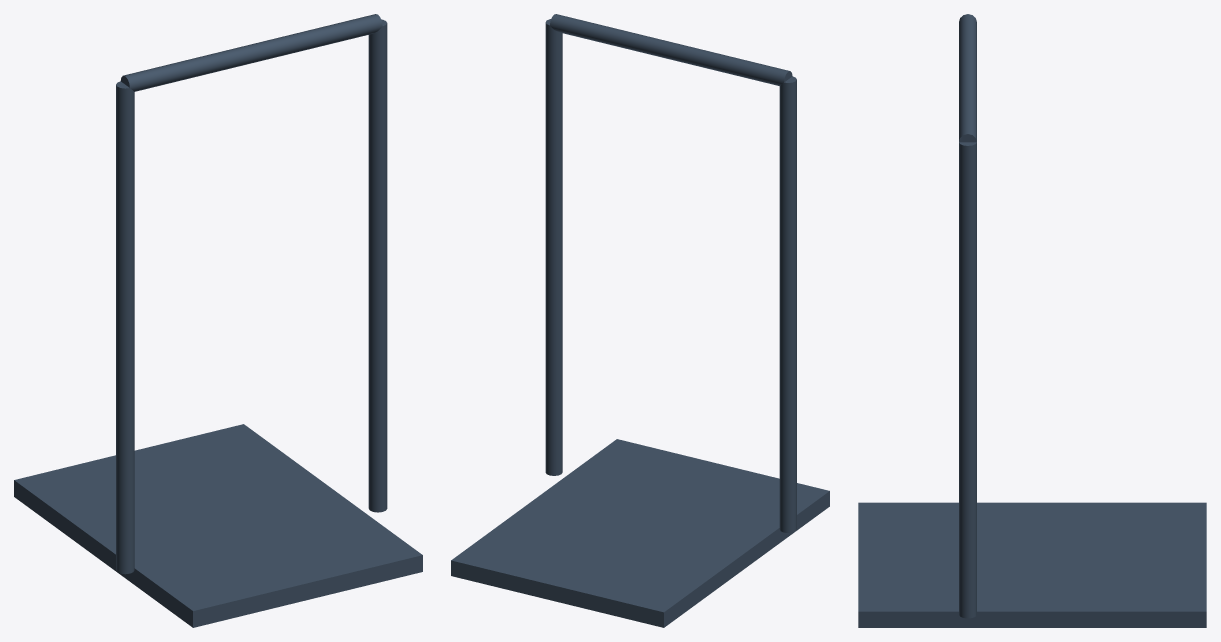
Rendered from ski_erg.glb.
3 views of the same model, side by side, from view 1: azimuth 30°, elevation 25°; view 2: azimuth 150°, elevation 25°; view 3: azimuth 270°, elevation 25° (orthographic). The views are drawn at different scales.
Visible parts, largest first — view 1: base, tower (×2), top; view 2: base, tower (×2), top; view 3: base, tower, top.
Boxes of the visible parts, x1,y1,x2,y2 form: base: (14,424,422,627); tower (×2): (116,19,387,574); top: (120,14,382,91); base: (451,439,829,627); tower (×2): (545,19,796,532); top: (550,14,792,85); base: (858,502,1206,627); tower: (959,142,976,618); top: (959,14,976,142).
Size of the model in its own units: 1.17 by 2.16 by 1.35.
